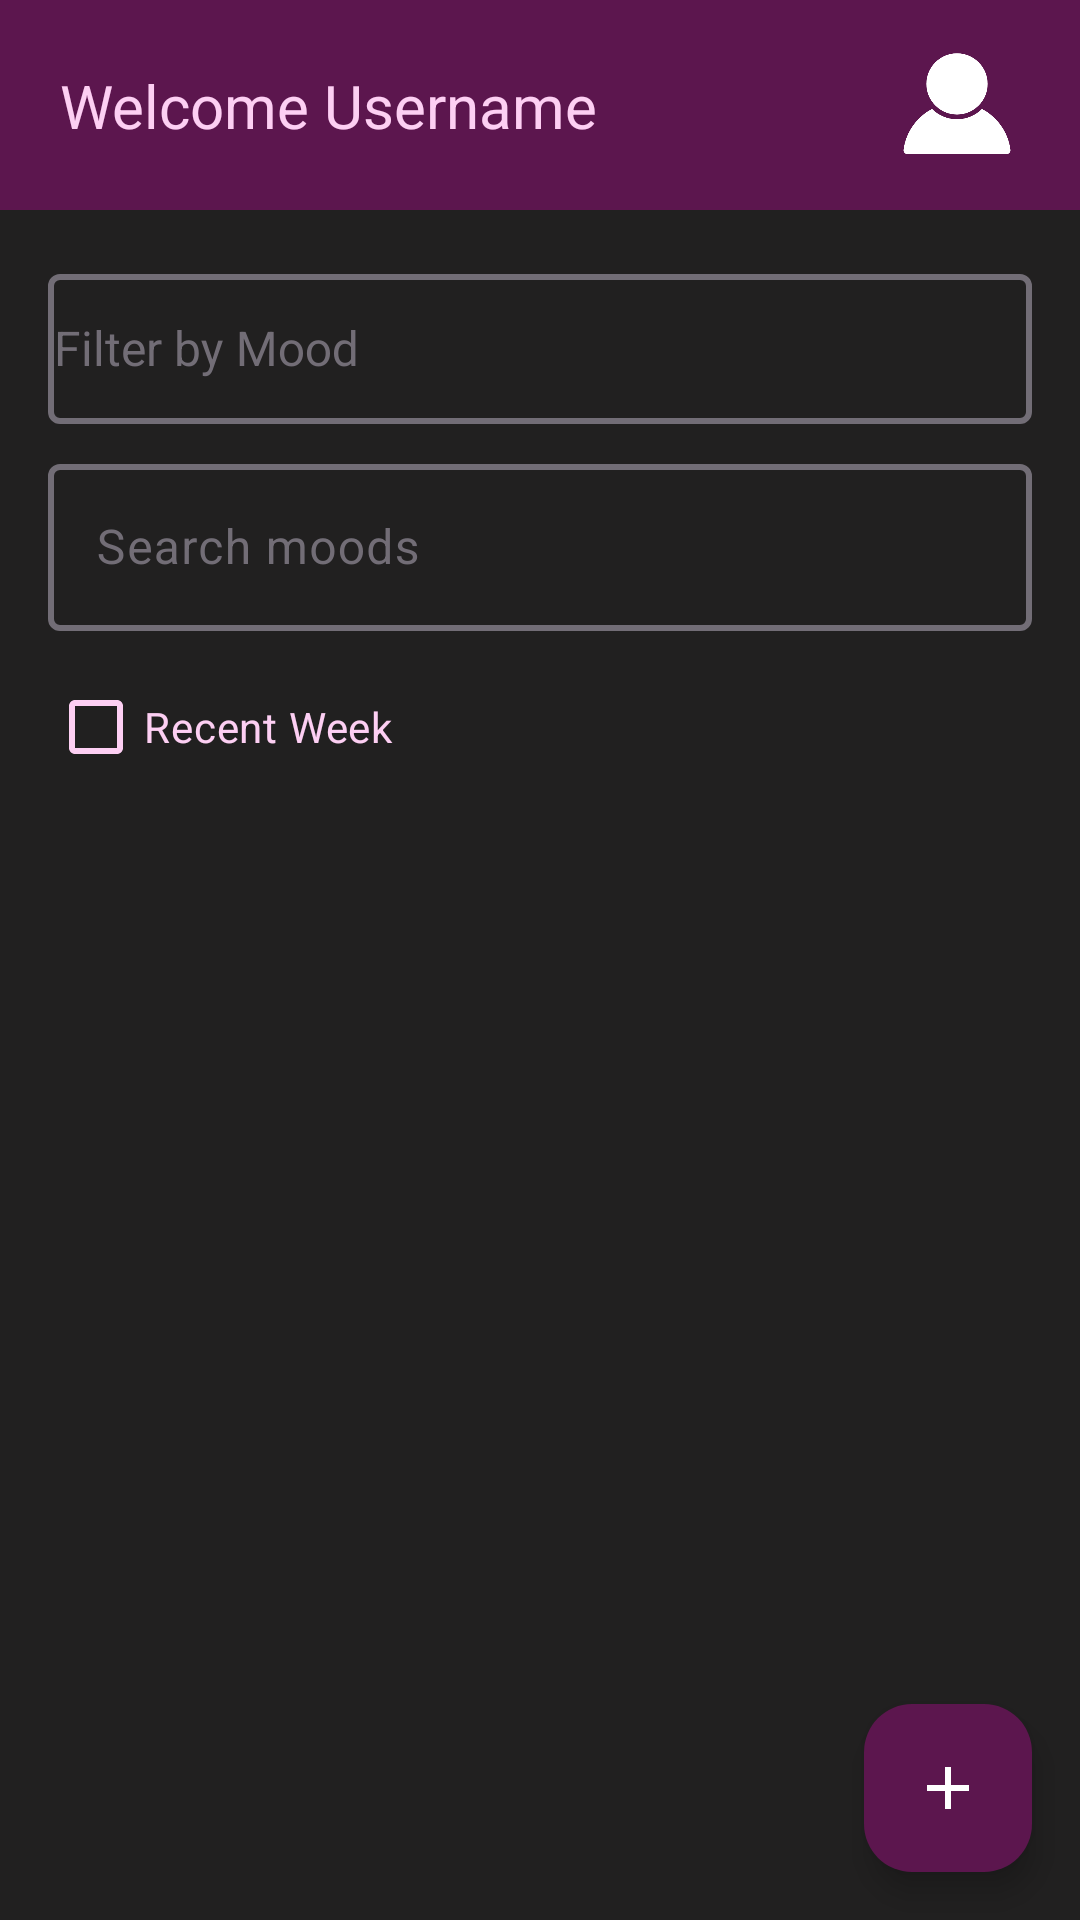

Where to tap for icons on this 1080px x 1920px app screen, as (x=x, y=y):
add: (x=948, y=1788)
profile: (x=957, y=103)
